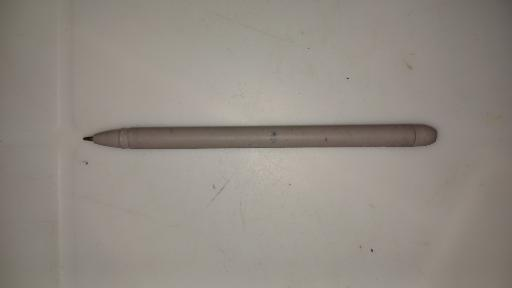pen: (81, 124, 439, 148)
